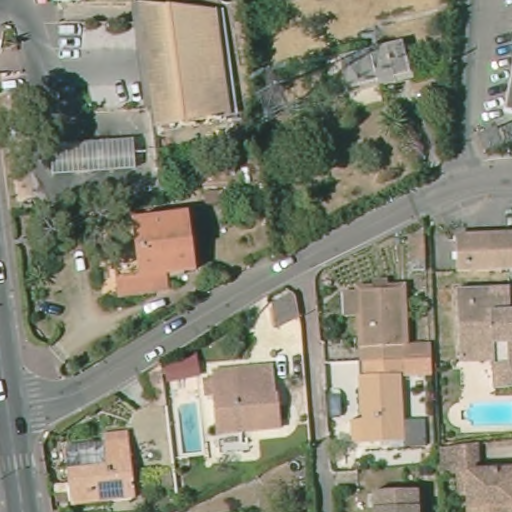pool: (171, 393, 212, 464), (449, 391, 512, 429)
